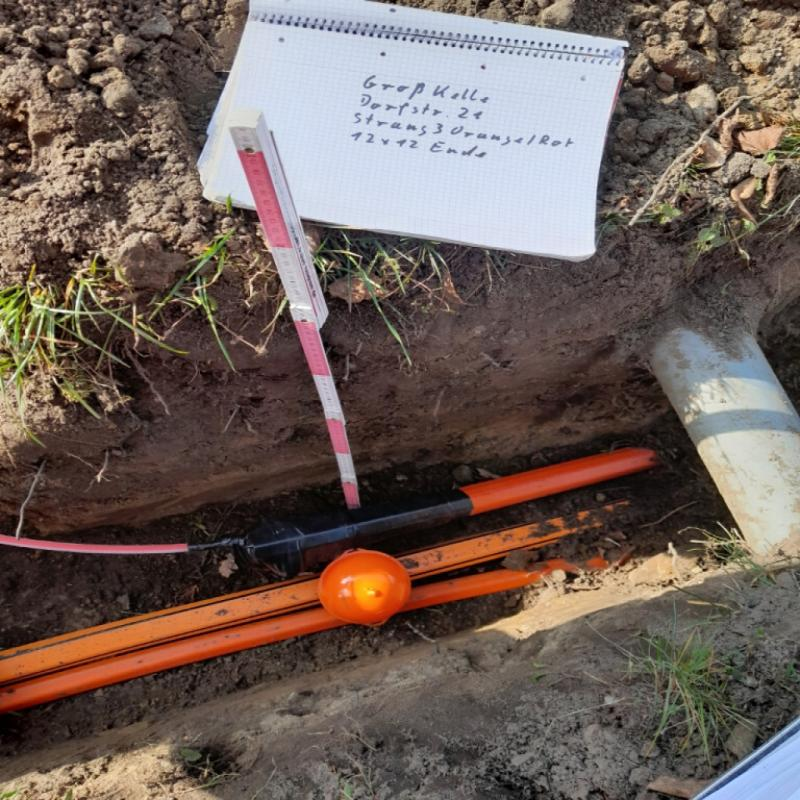Kugelmarker: (324, 549, 411, 629)
Orang-Speednetrohrchen: (4, 499, 630, 715), (248, 444, 665, 555)
